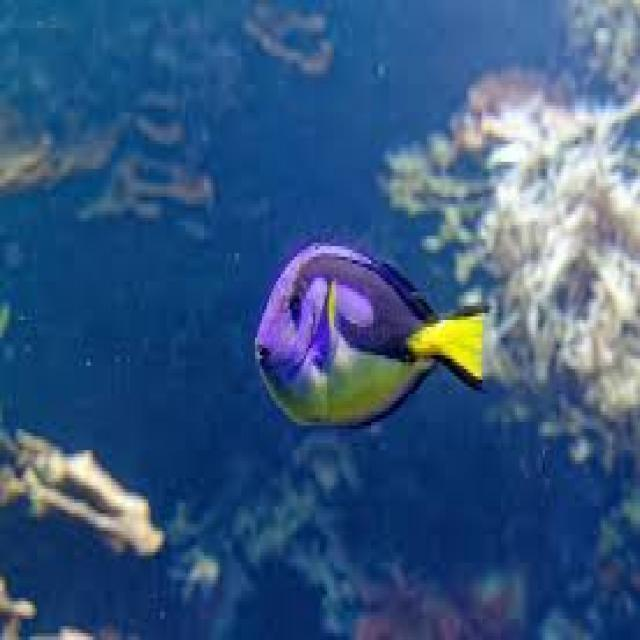BlueTang: (236, 220, 510, 455)
